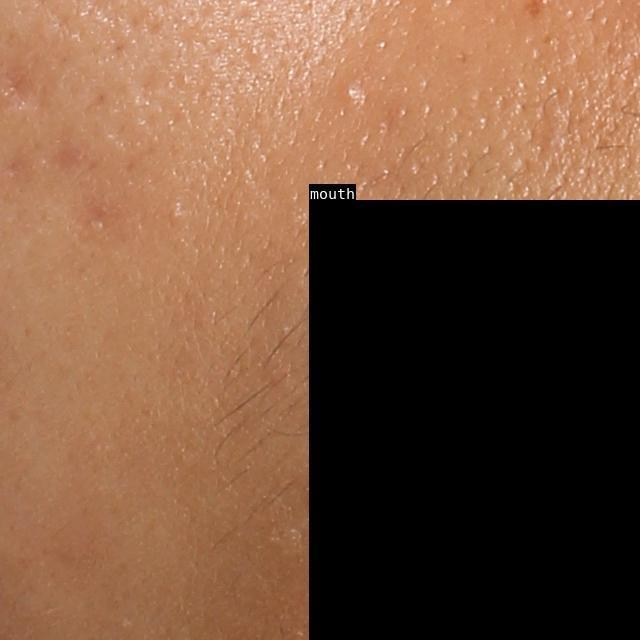atrophic_scar: (2, 68, 39, 110)
comedo: (338, 80, 367, 106)
